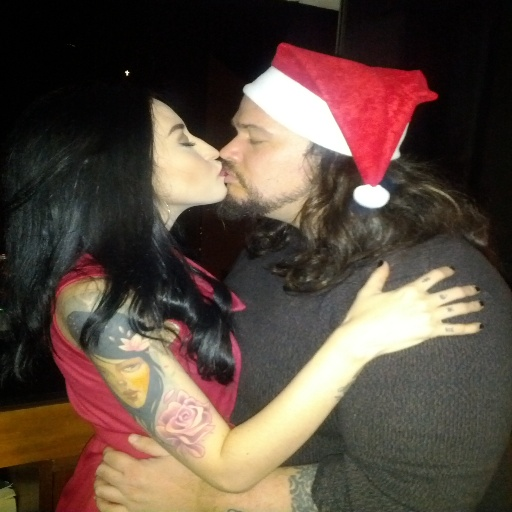hand: (320, 260, 482, 350), (94, 432, 225, 511)
